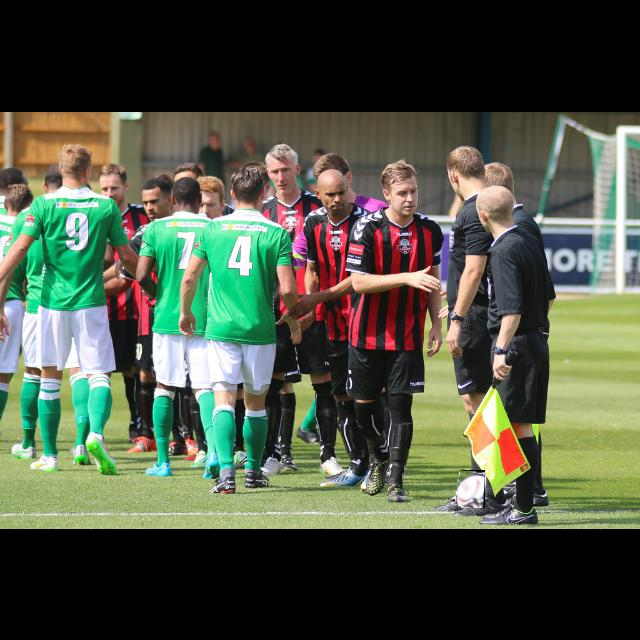Football: (457, 470, 485, 508)
